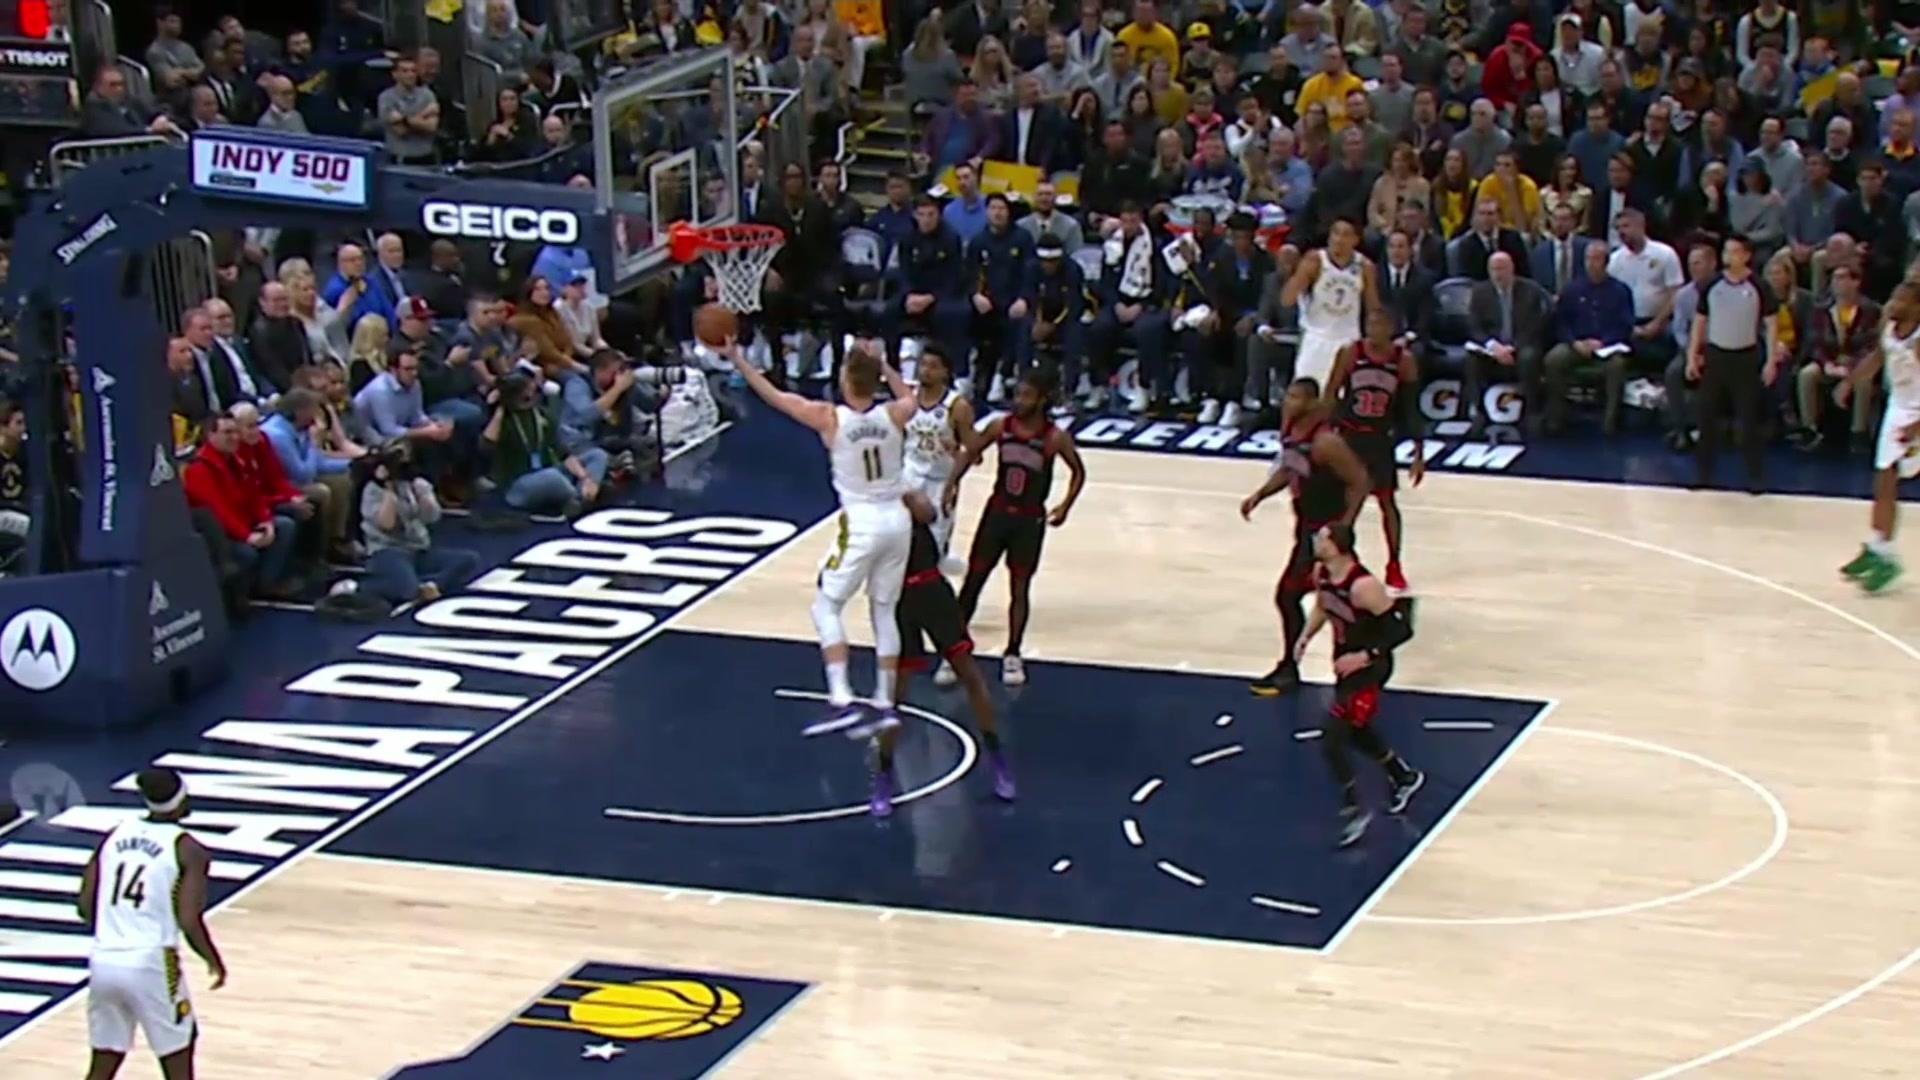foul: (806, 360, 968, 815)
